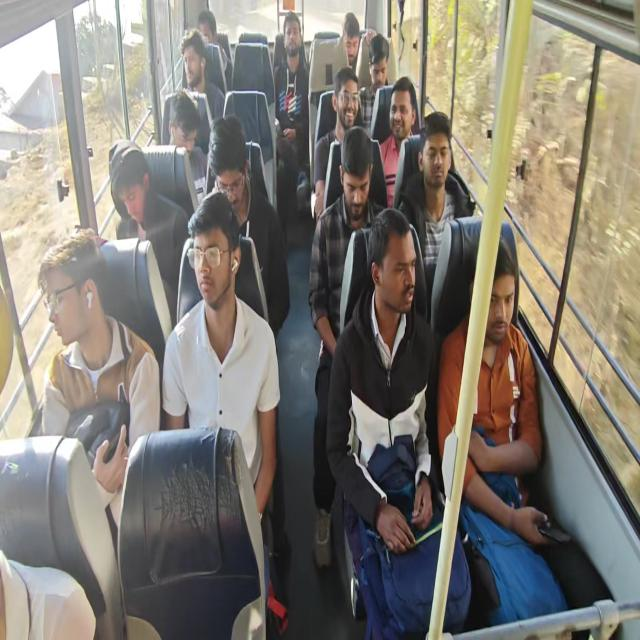person: (463, 255, 523, 352), (42, 247, 100, 335), (372, 226, 420, 318), (192, 210, 236, 304), (210, 139, 250, 218), (112, 147, 155, 220), (180, 33, 222, 99), (421, 127, 454, 205), (159, 88, 201, 148), (339, 147, 368, 218), (332, 77, 363, 128), (366, 37, 390, 92), (391, 88, 414, 144), (280, 9, 306, 58), (338, 7, 358, 49), (189, 15, 216, 40)
